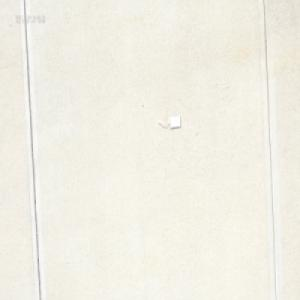LuggageTag: (157, 114, 181, 130)
